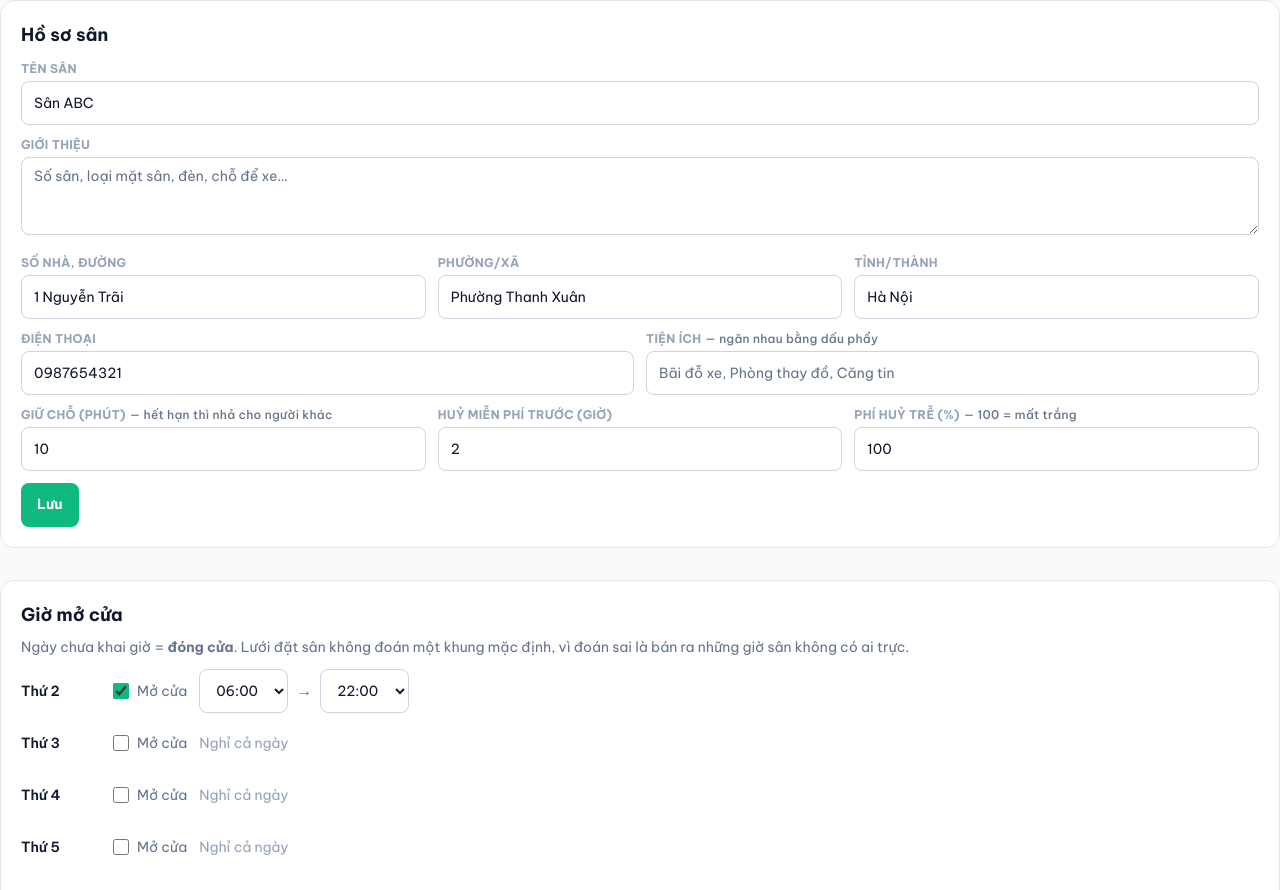
Test: hồ sơ + ngân hàng — giữ dữ liệu khi action báo lỗi › hồ sơ sân: gõ sai thì các ô giữ nguyên chữ vừa gõ, không quay về dữ liệu cũ
Replace the text in the field showing "Sân ABC" with "Sân ABC mới". click: (640, 103)
box: [21,81,1259,125]
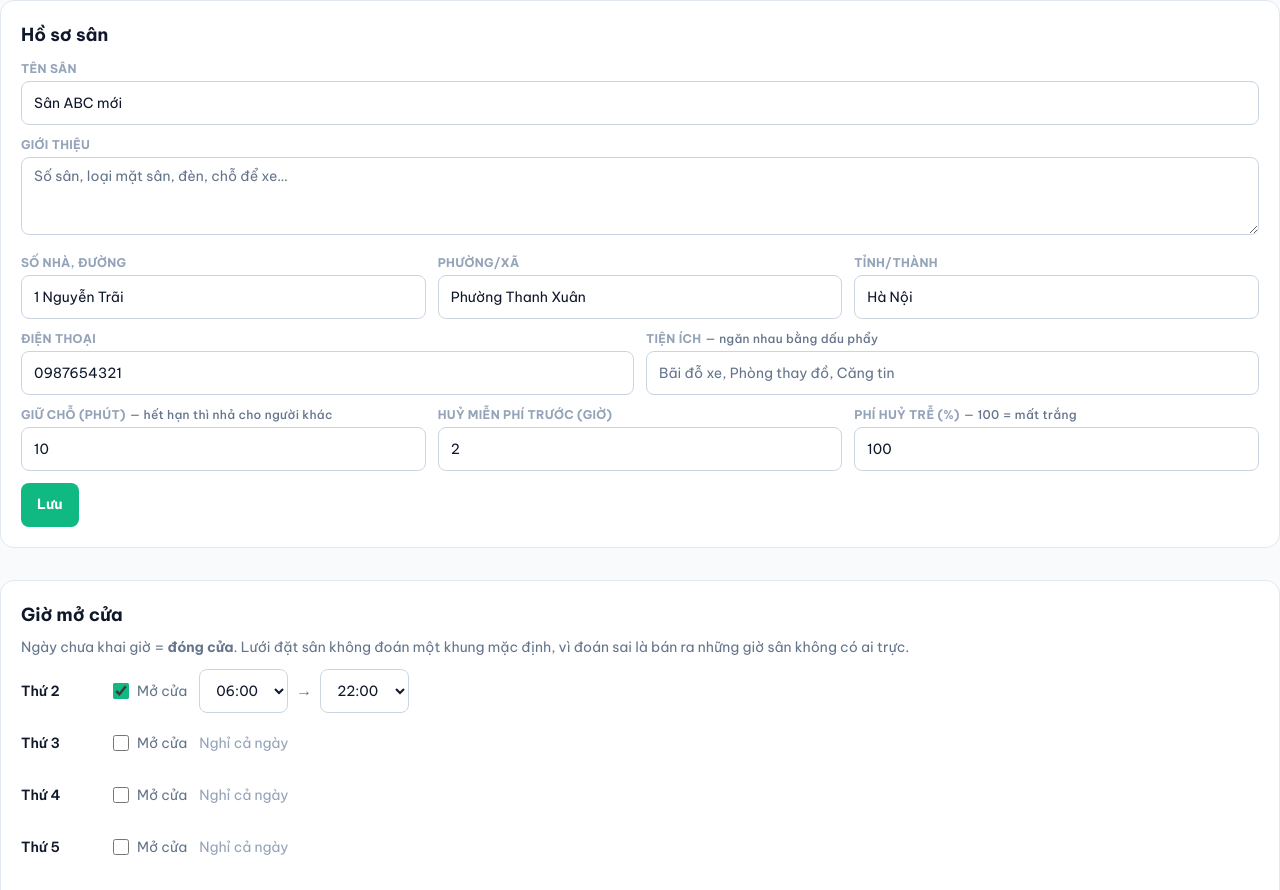
Type "09" into the field showing "0987654321". click: (328, 373)
box: [21,351,634,395]
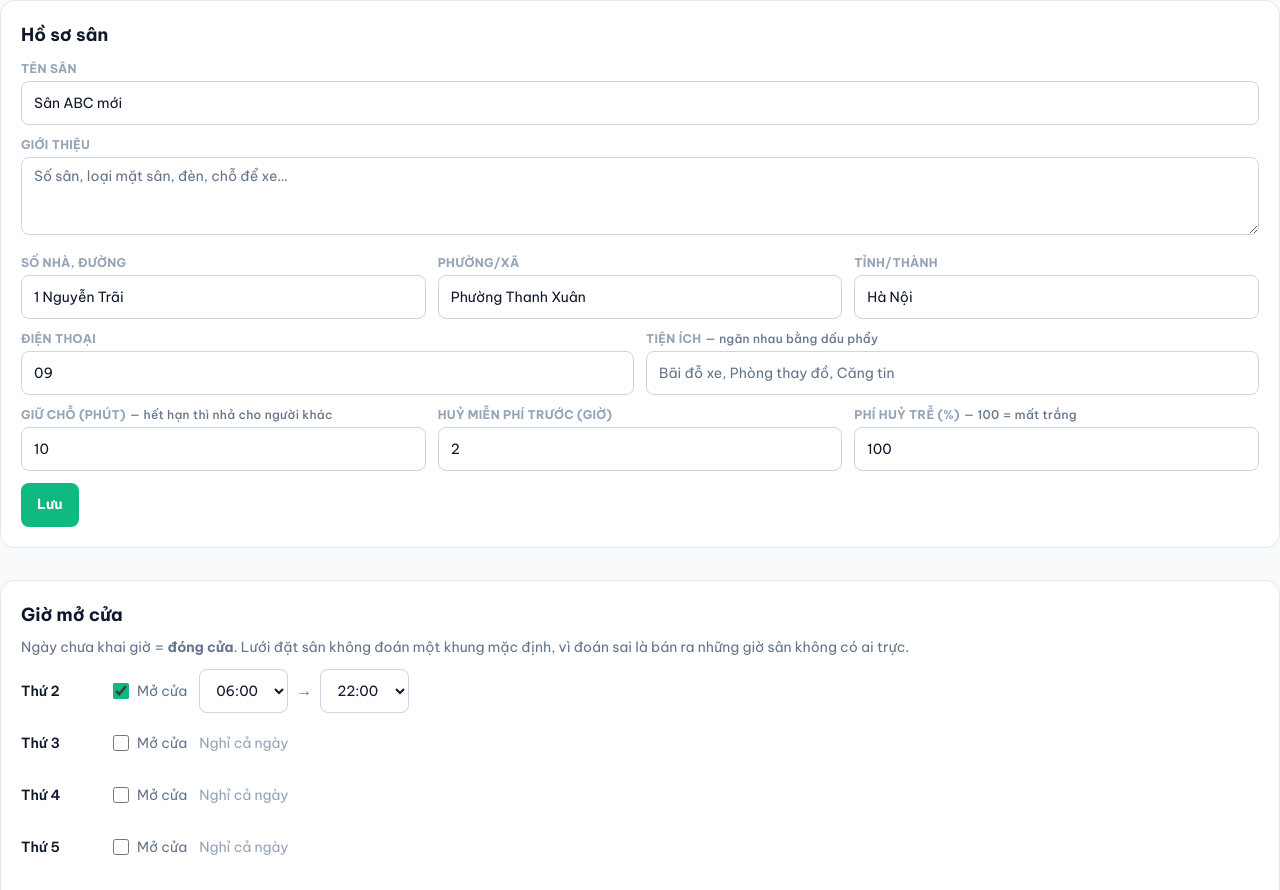
Submit the form, box [21,61,1259,527]
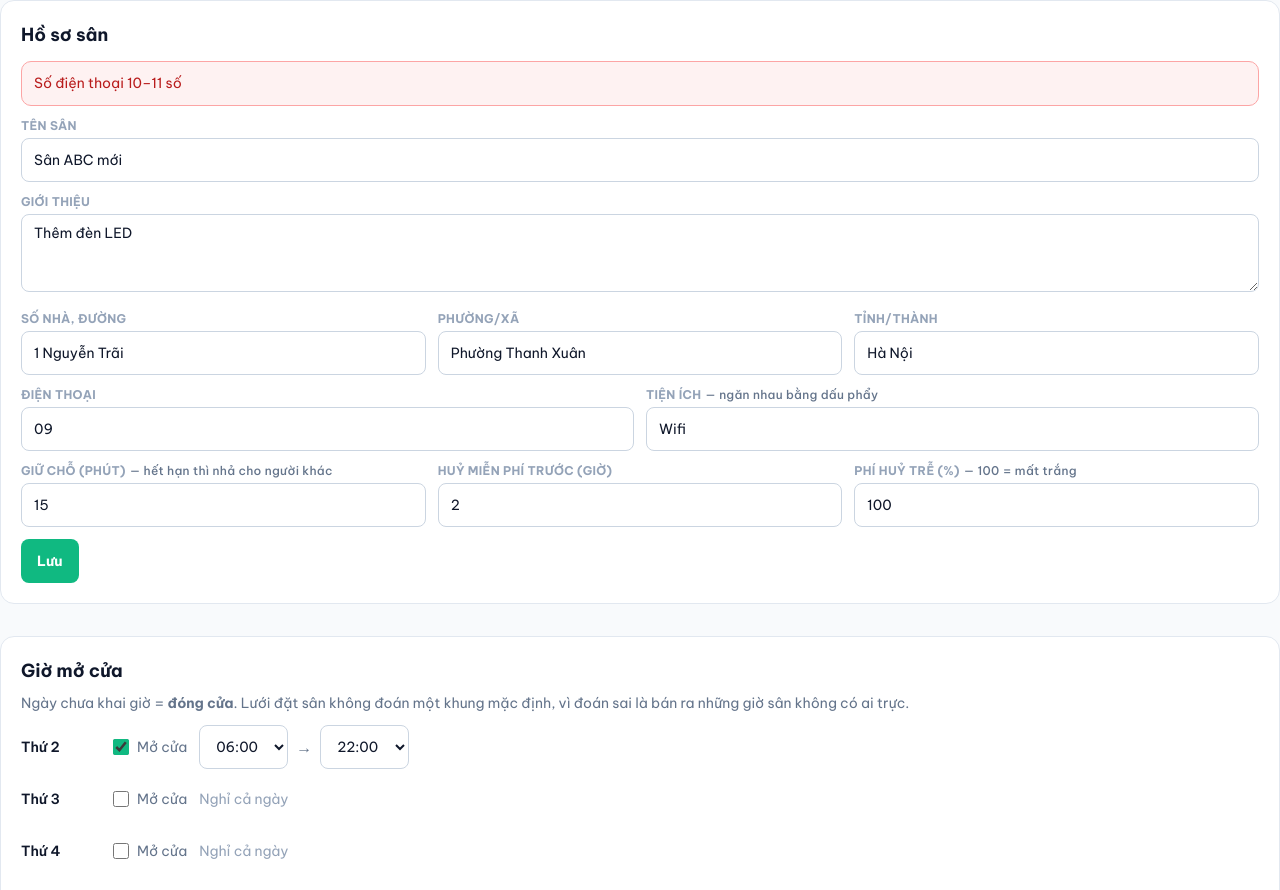
Expected: the message shows "Số điện thoại", [34,74,182,92]
Expected: the text box showing "Thêm đèn LED" is shown, [21,214,1259,292]
Expected: the number field showing "15" is shown, [21,483,426,527]
